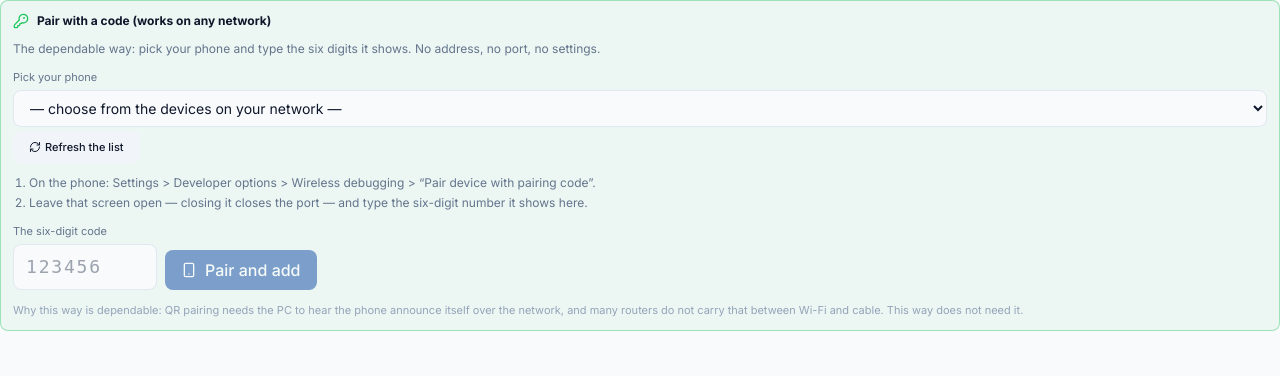
Scenario: pairing › reports the server's sentence when pairing fails
Select "Samsung — 192.168.3.24" in the dropdown labelled "Pick your phone": point(640, 108) [13,90,1267,126]
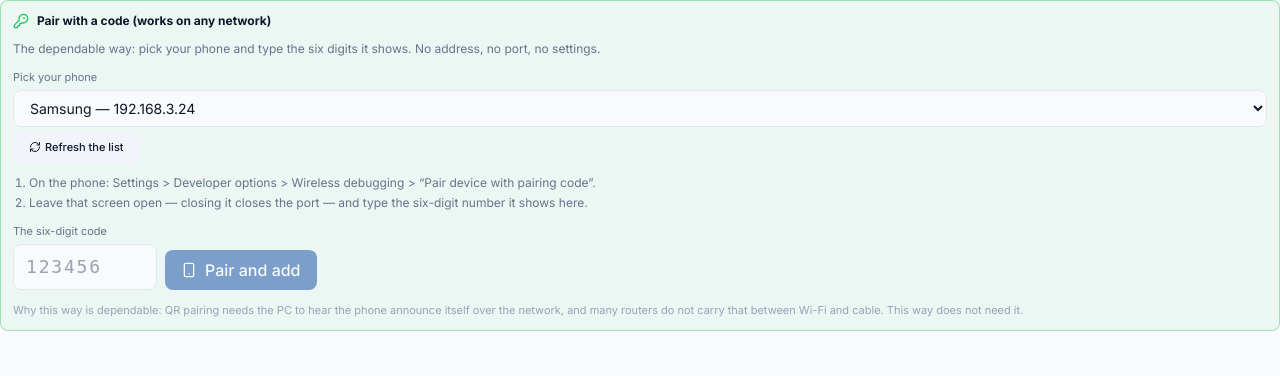
In the field labelled "The six-digit code": point(85, 266) [13,244,157,290], type "566925"
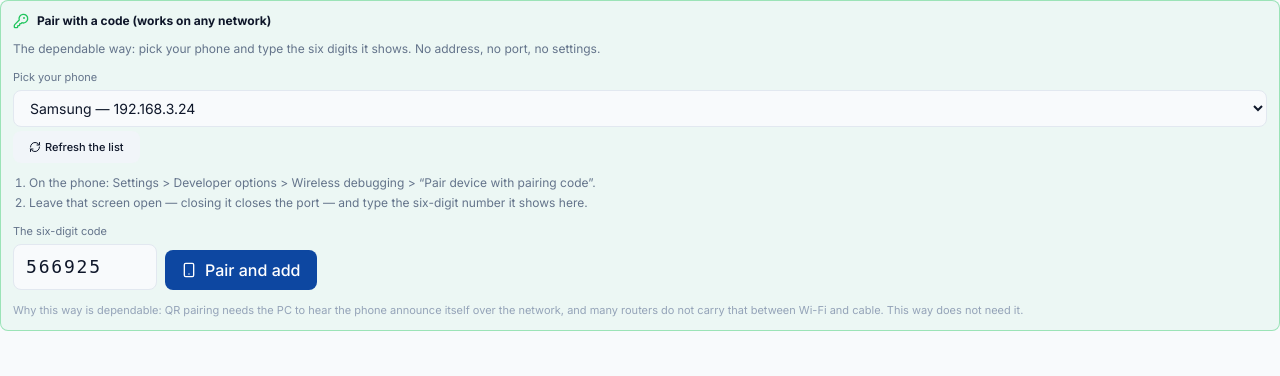
Click the button "Pair and add": point(241, 270) [165,250,316,290]
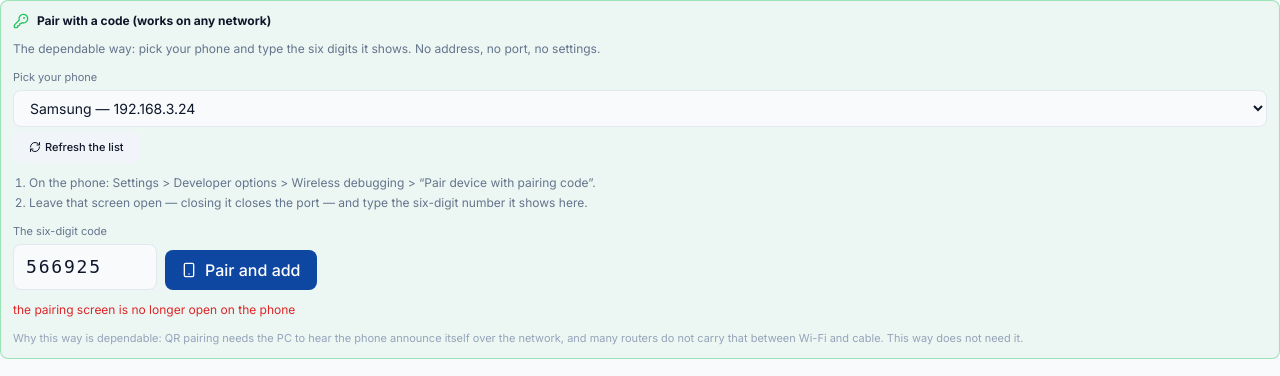
Expected: the text "the pairing screen is no longer open on the phone" is shown, [13,302,295,316]
